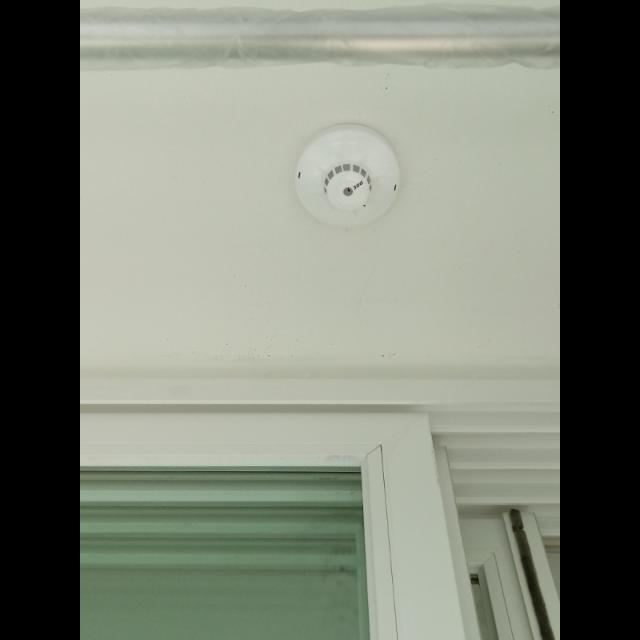Smoke-Detector: (293, 124, 401, 230)
